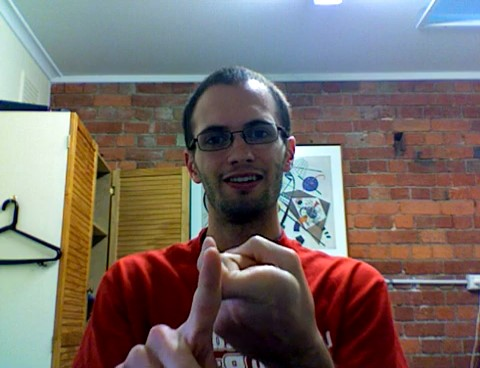K: (121, 232, 333, 368)
